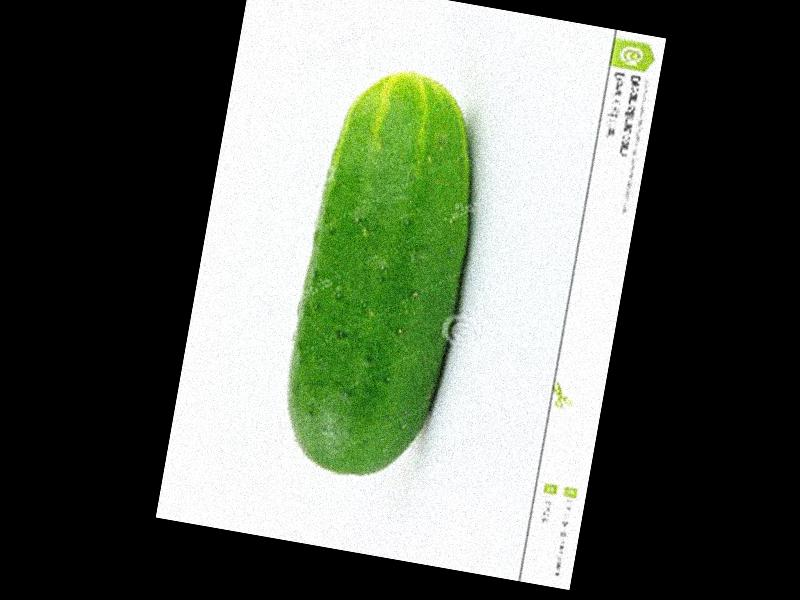Cucumber: (274, 62, 496, 490)
